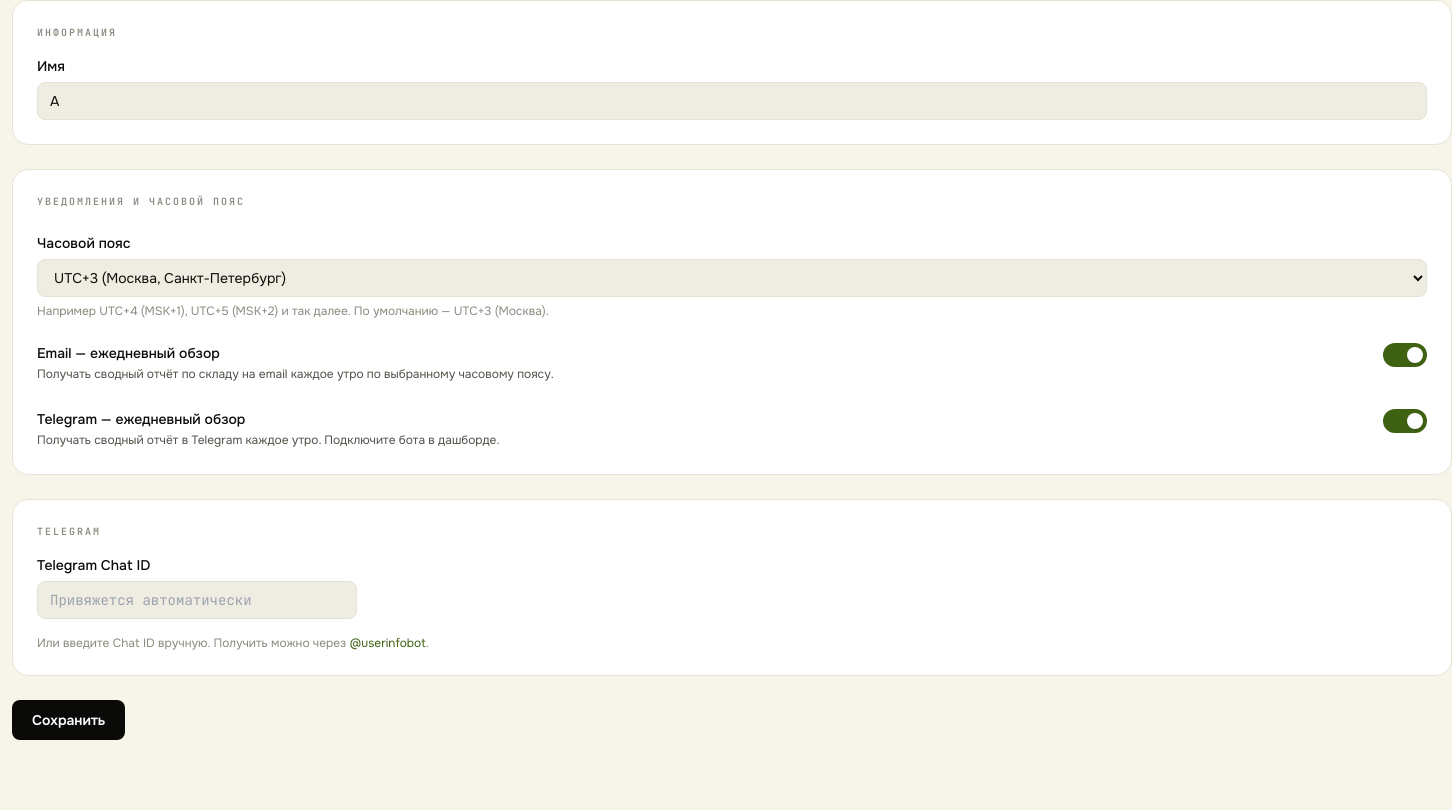
Test: SettingsForm › при ошибке — 'Ошибка: ...'
This screenshot has width=1452, height=810.
Click the button "Сохранить" at coordinates (69, 720), box left=12, top=700, right=125, bottom=740
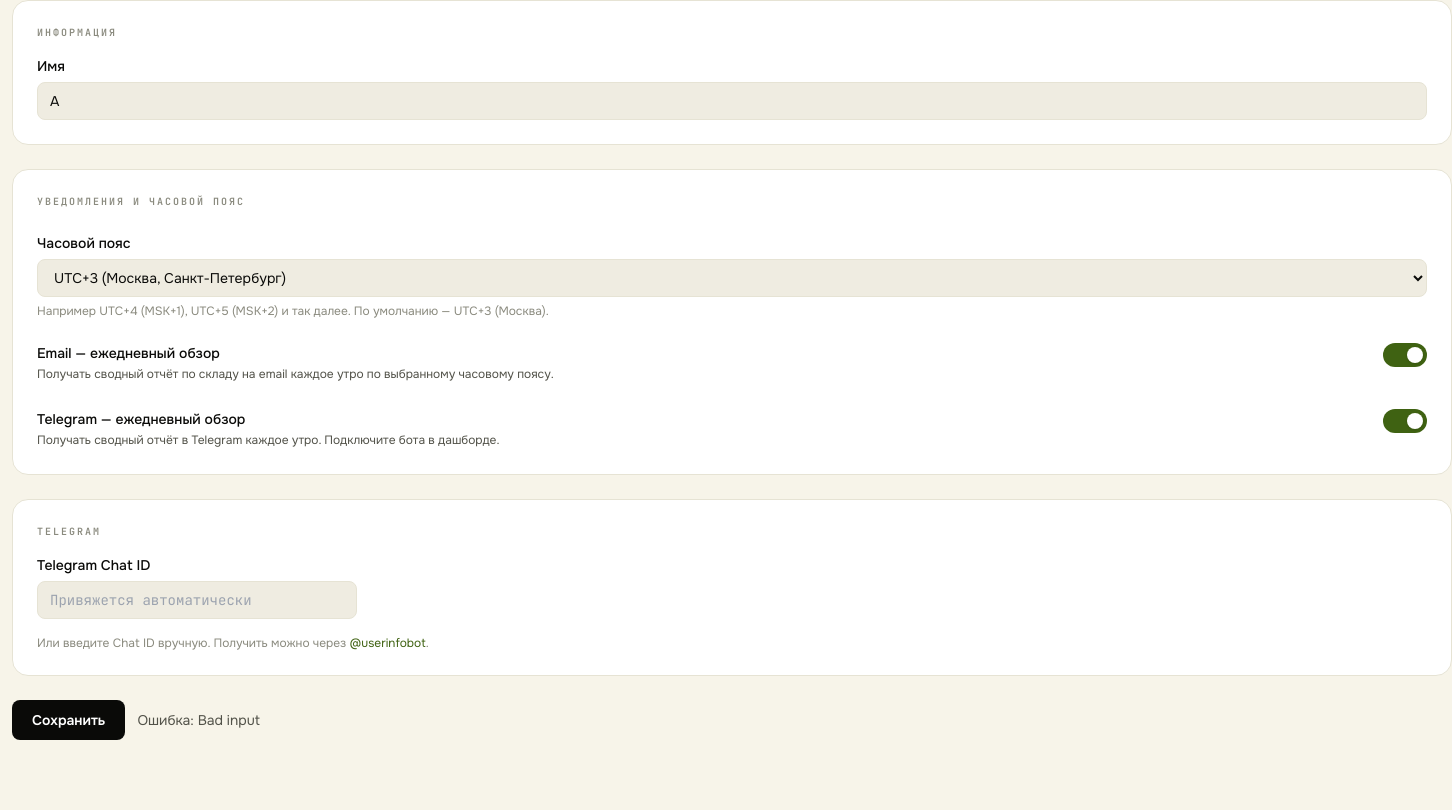
Check: the text "Ошибка: Bad input" is shown, box left=137, top=710, right=260, bottom=730
